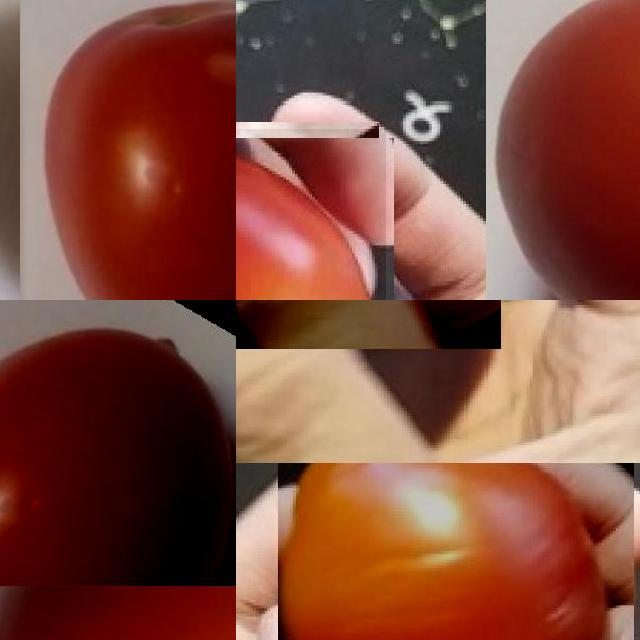Fresh Tomato: (0, 300, 236, 586), (20, 0, 236, 300), (486, 0, 640, 300), (236, 129, 386, 300), (236, 300, 500, 349)
Rotten Tomato: (278, 463, 633, 640)
